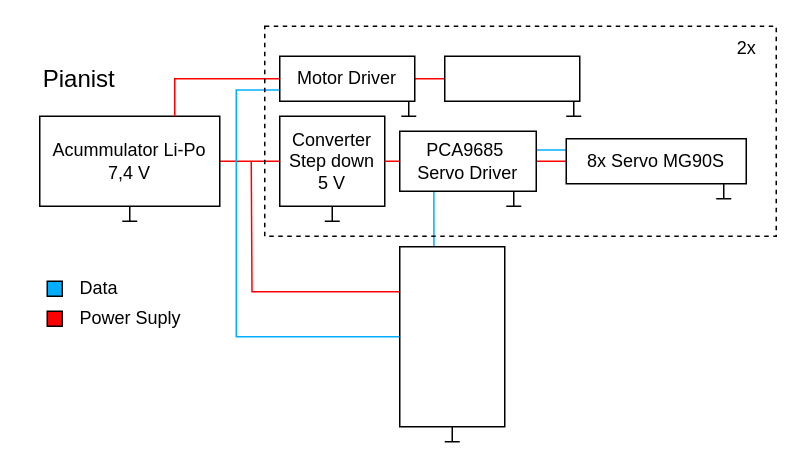
Image size: 803x470. Some labels were removed from this diagram. The box of each missing label's shape, as (x1, y1, x2, y2) in pixels:
ESP: (398, 245, 505, 427)
Stepper Motor: (443, 55, 580, 101)
